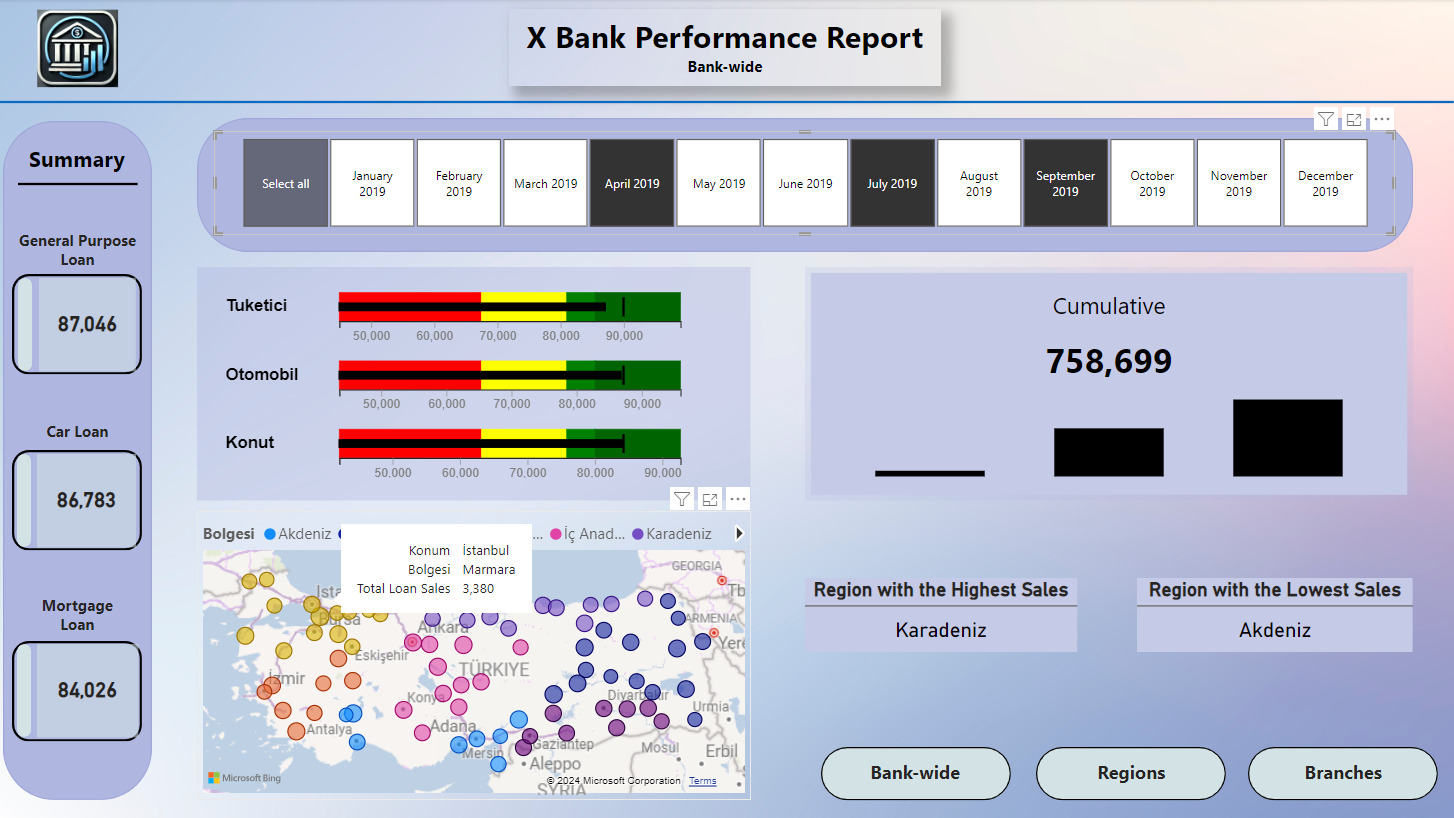

The page's visual inventory and layout, read from the dashboard file:
{"tool":"powerbi","page":{"name":"Bank","canvas":[1280,720],"ordinal":0},"visuals":[{"type":"textbox","box":[450.4,8.8,379.3,68.5],"z":0},{"type":"shape","box":[0,58,1280.2,65],"z":1000},{"type":"shape","box":[6.1,107.1,130.8,596.2],"z":2000},{"type":"textbox","box":[14.2,123.3,114.2,39.2],"z":3000},{"type":"shape","box":[19.3,147.5,105.4,29.9],"z":4000},{"type":"shape","box":[14.2,241.7,114.2,88.3],"z":5000},{"type":"shape","box":[14.2,396.2,114.2,88.3],"z":6000},{"type":"shape","box":[14.2,563.3,114.2,88.3],"z":7000},{"type":"textbox","box":[7.5,197.5,127.5,49.2],"z":8000},{"type":"shape","box":[19.2,245,12.5,81.7],"z":9000},{"type":"shape","box":[18.3,399.5,12.5,81.7],"z":10000},{"type":"shape","box":[18.3,566.7,12.5,81.7],"z":11000},{"type":"textbox","box":[30,365.4,83.3,30.8],"z":12000},{"type":"image","box":[20,4.2,102.5,78.3],"z":13000},{"type":"textbox","box":[20,518.3,102.5,45],"z":14000},{"type":"shape","box":[1099.2,656.7,166.7,46.7],"z":15000},{"type":"shape","box":[913.3,656.7,166.7,46.7],"z":16000},{"type":"shape","box":[724.2,656.7,166.7,46.7],"z":17000},{"type":"textbox","box":[745.8,663.3,123.3,33.3],"z":18000},{"type":"textbox","box":[935,663.3,123.3,33.3],"z":19000},{"type":"textbox","box":[1120.8,663.3,123.3,33.3],"z":20000},{"type":"card","fields":{"Values":["Measurements.General Purpose Loan Sales"]},"box":[37.8,245,85.2,81.7],"z":21000},{"type":"card","fields":{"Values":["Measurements.Car Loan Sales"]},"box":[36,399.5,86.9,81.7],"z":22000},{"type":"card","fields":{"Values":["Measurements.Mortgage Loan Sales"]},"box":[36,566.3,88.7,81.7],"z":23000},{"type":"shape","box":[176.5,104.5,1067.7,117.7],"z":24000},{"type":"slicer","fields":{"Values":["Loans.Ay"]},"box":[191.4,115.9,1037,91.3],"z":25000},{"type":"BulletChart1443347686880","fields":{"Value":["Measurements.Total Loan Sales"],"TargetValue":["Measurements.Total Loan Target"],"Category":["Loans.Kategori"]},"box":[176.5,235.3,486.4,205.5],"z":26000},{"type":"KPIStatusWithHistory1446562283967","fields":{"Values":["Measurements.Cumulative"],"Category":["Loans.Ay"]},"box":[710.3,235.3,533.9,205.5],"z":27000},{"type":"card","title":"Region with the Highest Sales","fields":{"Values":["Min(Branches.Bolgesi)"]},"box":[710.3,508.4,238.8,65],"z":28000},{"type":"card","title":"Region with the Lowest Sales","fields":{"Values":["Min(Branches.Bolgesi)"]},"box":[1001.9,508.4,242.3,65],"z":29000},{"type":"map","fields":{"Size":["Measurements.Total Loan Sales"],"Category":["Branches.Konum"],"Series":["Branches.Bolgesi"]},"box":[176.5,449.6,486.4,253.8],"z":30000}]}

Visuals, with their boxes in screenshot pixels (x1, y1, x2, y2), scaled from the page's 1280x720 canvas onto the 1454x818 screenshot:
textbox: {"left": 512, "top": 10, "right": 942, "bottom": 88}
shape: {"left": 0, "top": 66, "right": 1453, "bottom": 140}
shape: {"left": 7, "top": 122, "right": 156, "bottom": 799}
textbox: {"left": 16, "top": 140, "right": 146, "bottom": 185}
shape: {"left": 22, "top": 168, "right": 142, "bottom": 202}
shape: {"left": 16, "top": 275, "right": 146, "bottom": 375}
shape: {"left": 16, "top": 450, "right": 146, "bottom": 550}
shape: {"left": 16, "top": 640, "right": 146, "bottom": 740}
textbox: {"left": 9, "top": 224, "right": 153, "bottom": 280}
shape: {"left": 22, "top": 278, "right": 36, "bottom": 371}
shape: {"left": 21, "top": 454, "right": 35, "bottom": 547}
shape: {"left": 21, "top": 644, "right": 35, "bottom": 737}
textbox: {"left": 34, "top": 415, "right": 129, "bottom": 450}
image: {"left": 23, "top": 5, "right": 139, "bottom": 94}
textbox: {"left": 23, "top": 589, "right": 139, "bottom": 640}
shape: {"left": 1249, "top": 746, "right": 1438, "bottom": 799}
shape: {"left": 1037, "top": 746, "right": 1227, "bottom": 799}
shape: {"left": 823, "top": 746, "right": 1012, "bottom": 799}
textbox: {"left": 847, "top": 754, "right": 987, "bottom": 791}
textbox: {"left": 1062, "top": 754, "right": 1202, "bottom": 791}
textbox: {"left": 1273, "top": 754, "right": 1413, "bottom": 791}
card - Measurements.General Purpose Loan Sales: {"left": 43, "top": 278, "right": 140, "bottom": 371}
card - Measurements.Car Loan Sales: {"left": 41, "top": 454, "right": 140, "bottom": 547}
card - Measurements.Mortgage Loan Sales: {"left": 41, "top": 643, "right": 142, "bottom": 736}
shape: {"left": 200, "top": 119, "right": 1413, "bottom": 252}
slicer - Loans.Ay: {"left": 217, "top": 132, "right": 1395, "bottom": 235}
BulletChart1443347686880 - Measurements.Total Loan Sales x Measurements.Total Loan Target: {"left": 200, "top": 267, "right": 753, "bottom": 501}
KPIStatusWithHistory1446562283967 - Measurements.Cumulative x Loans.Ay: {"left": 807, "top": 267, "right": 1413, "bottom": 501}
"Region with the Highest Sales" card: {"left": 807, "top": 578, "right": 1078, "bottom": 651}
"Region with the Lowest Sales" card: {"left": 1138, "top": 578, "right": 1413, "bottom": 651}
map - Measurements.Total Loan Sales x Branches.Konum: {"left": 200, "top": 511, "right": 753, "bottom": 799}
